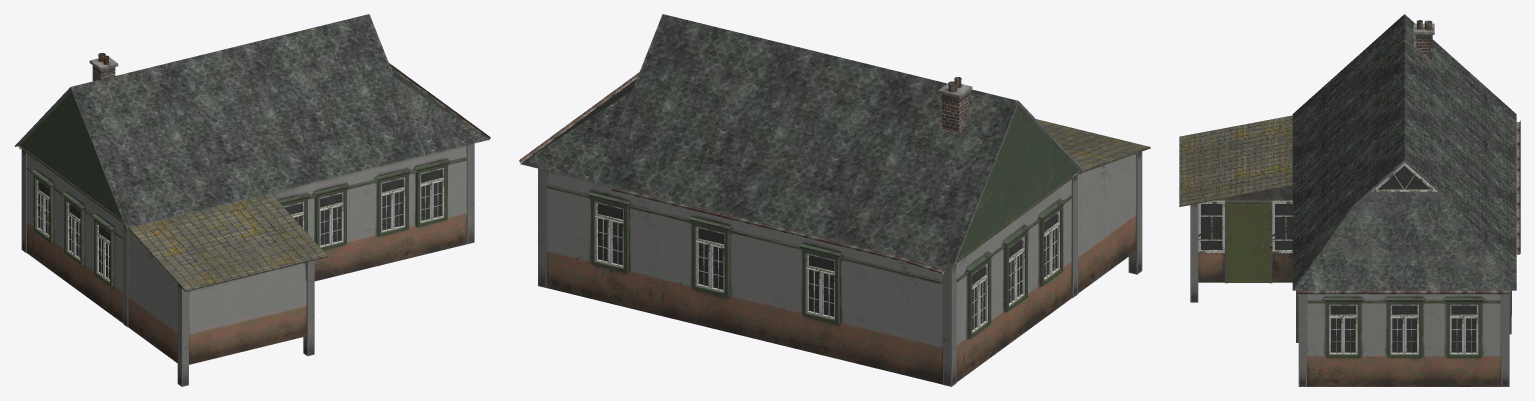
3 renders of one model, left to right at view 1: azimuth 30°, elevation 25°; view 2: azimuth 150°, elevation 25°; view 3: azimuth 270°, elevation 25°, orthographic. The views are drawn at different scales.
Parts seen in each view (by area): view 1: roof_roof_0, walls _walls_0, big window_windows_0, drain pipe_details_0; view 2: roof_roof_0, walls _walls_0, big window_windows_0, drain pipe_details_0; view 3: roof_roof_0, walls _walls_0, big window_windows_0, drain pipe_details_0.
Boxes of the visible parts, x1=… form: roof_roof_0: x1=14, y1=14, x2=488, y2=291; walls _walls_0: x1=21, y1=143, x2=474, y2=386; big window_windows_0: x1=31, y1=160, x2=450, y2=286; drain pipe_details_0: x1=18, y1=53, x2=490, y2=149; roof_roof_0: x1=520, y1=14, x2=1150, y2=269; walls _walls_0: x1=538, y1=151, x2=1142, y2=386; big window_windows_0: x1=587, y1=192, x2=1066, y2=339; drain pipe_details_0: x1=519, y1=72, x2=972, y2=274; roof_roof_0: x1=1179, y1=14, x2=1516, y2=290; walls _walls_0: x1=1190, y1=186, x2=1509, y2=386; big window_windows_0: x1=1198, y1=163, x2=1511, y2=357; drain pipe_details_0: x1=1261, y1=20, x2=1520, y2=294.
Size of what is drawn, in the model's own units: 150 by 92.47 by 121.
Materials: 4 (4 with a texture image).
